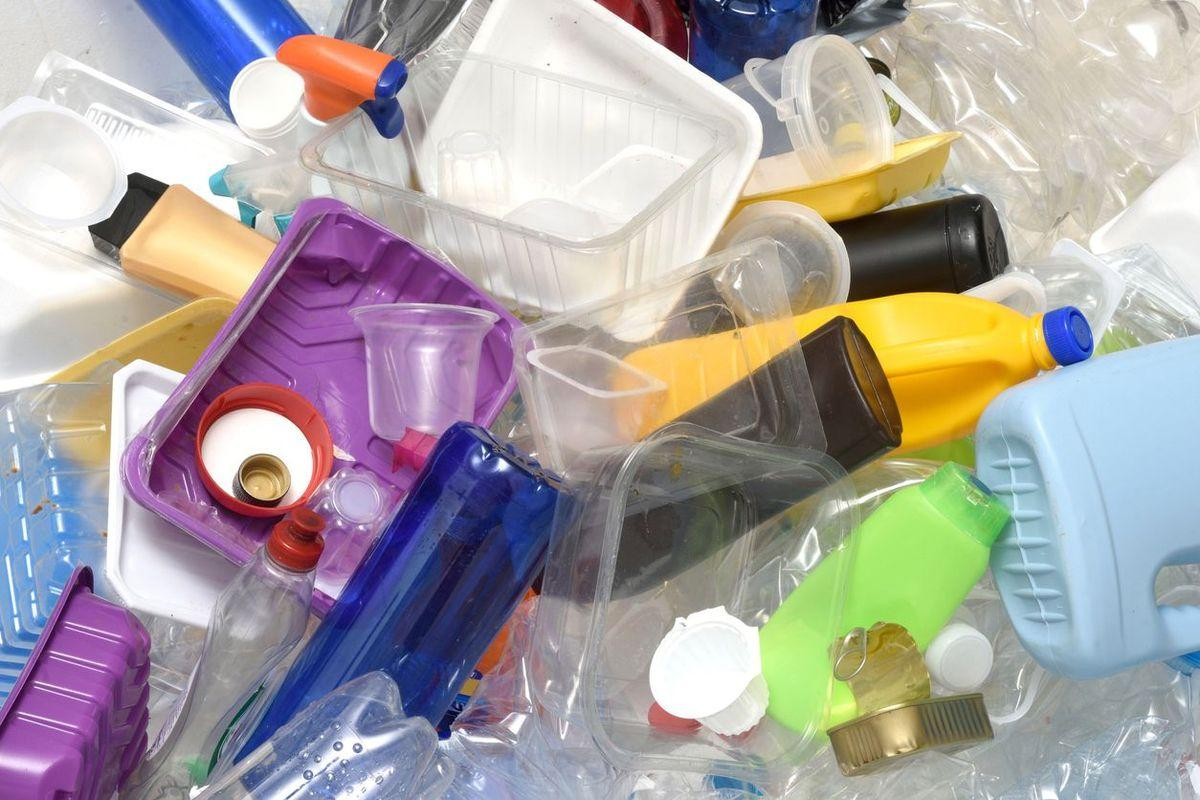HDPE: (967, 317, 1200, 691), (615, 292, 1051, 457), (89, 169, 278, 300), (264, 13, 428, 155), (192, 379, 331, 522), (228, 443, 295, 510), (1043, 301, 1095, 364)
PETE: (198, 670, 461, 800)
PP: (703, 36, 896, 194), (347, 300, 502, 449), (518, 330, 677, 465)
PS: (295, 51, 734, 317), (0, 563, 152, 800)
